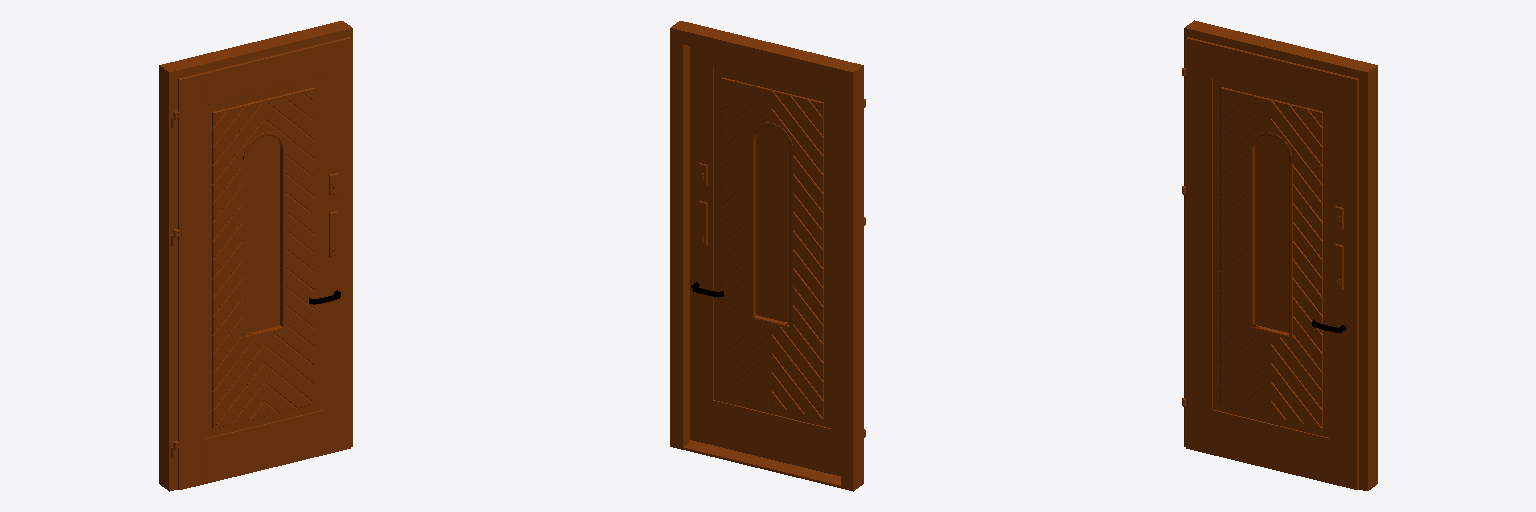
URDF robot description (urdf_door):
<?xml version="1.0" ?>
<robot name="urdf_door">
 <link name="world"/>
  <joint name="fixed" type="fixed">
    <parent link="world"/>
    <child link="baseLink"/>
    <origin xyz="0 0 0"/>
  </joint>

  <link name="baseLink">
    <inertial>
      <origin rpy="0 0 0" xyz="0 0 0"/>
       <mass value="10.0"/>
       <inertia ixx="0.1" ixy="0" ixz="0" iyy="0.1" iyz="0" izz="0.1"/>
    </inertial>
    <visual>
        <origin xyz='0 0 0' rpy='1.5707963267948966 0 0'/>
    <geometry>
     <mesh filename="door/processed2_055_frame.obj"  scale="0.01 0.01 0.01" />
    </geometry>
    <material name="brown">
        <color rgba="0.545 0.270 0.074 1"/>
    </material>
    </visual>
    <collision>
        <origin xyz='0 0 0' rpy='1.5707963267948966 0 0'/>
    <geometry>
     <mesh filename="door/055_frame_vhacd.obj"  scale="0.01 0.01 0.01" />
    </geometry>
    <material name="brown">
        <color rgba="0.545 0.270 0.074 1"/>
    </material>
    </collision>

  </link>
   <link name="childA">
    <inertial>
      <origin rpy="0 0 0" xyz="0 0 0"/>
      <mass value="80.0"/>
      <inertia ixx="0.048966669" ixy="0" ixz="0" iyy="0.046466667" iyz="0" izz="0.0041666669"/>
    </inertial>

    <visual>
    <origin xyz='0.45 0.02 0' rpy='1.5707963267948966 0 0'/>
    <geometry>
     <mesh filename="door/processed2_055_door.obj"  scale="0.01 0.01 0.01" />

    </geometry>
    <material name="brown">
        <color rgba="0.545 0.270 0.074 1"/>
    </material>

	</visual>
    <collision>
    <origin xyz='0.45 0.02 0' rpy='1.5707963267948966 0 0'/>
    <geometry>
     <mesh filename="door/055_door.obj"  scale="0.01 0.01 0.01" />
    </geometry>
    <material name="brown">
        <color rgba="0.545 0.270 0.074 1"/>
    </material>

    </collision>

   </link>


   <link name="knob">
    <inertial>
      <mass value="0.1"/>
      <inertia ixx="0.0" ixy="0" ixz="0" iyy="0.0" iyz="0" izz="0.0"/>
    </inertial>

    <visual>
    <geometry>
     <mesh filename="door/processed_055_knob_centered.obj"  scale="0.01 0.01 0.01" />

    </geometry>
    <material name="black">
        <color rgba="0.0 0.0 0.0 1"/>
    </material>

  </visual>
    <collision>
    <geometry>
     <mesh filename="door/processed_055_knob_centered.obj"  scale="0.01 0.01 0.01" />
    </geometry>
    <material name="black">
        <color rgba="0.0 0.0 0.0 1"/>
    </material>
    </collision>
   </link>



   <joint name="joint_baseLink_childA" type="revolute">
    <parent link="baseLink"/>
    <child link="childA"/>
	<dynamics damping="1000" friction="0"/>
    <origin xyz="-0.45 -0.04 0"/>
    <axis xyz="0 0 1"/>
    <limit lower="0" upper="1.7" />
  </joint>


  <joint name="door_to_knob" type="fixed">
  <parent link="childA"/>
  <child link="knob"/>
  <origin xyz="0.78 0.02 0.8" rpy="1.57 0 0"/>
  </joint>


</robot>

--- Facts derived from the render (not from the file) ---
3 views of the same robot in one strip: view 1: azimuth 30°, elevation 25°; view 2: azimuth 150°, elevation 25°; view 3: azimuth 330°, elevation 25° (orthographic).
Robot: urdf_door — 4 links, 3 joints (1 revolute, 2 fixed); root link world; default pose: every joint at zero.
Visible links, largest first — view 1: childA, baseLink; view 2: childA, baseLink; view 3: childA, baseLink.
Boxes of the visible links, left/top/right/bottom form: childA: left=173, top=37, right=350, bottom=489; baseLink: left=159, top=21, right=352, bottom=491; childA: left=690, top=46, right=865, bottom=475; baseLink: left=670, top=21, right=863, bottom=491; childA: left=1182, top=37, right=1358, bottom=489; baseLink: left=1184, top=20, right=1377, bottom=490.
Size in the robot's own frame: 0.941 by 0.1695 by 2.06 metres.
3 mesh visuals loaded from 3 distinct referenced files (3 OBJ).